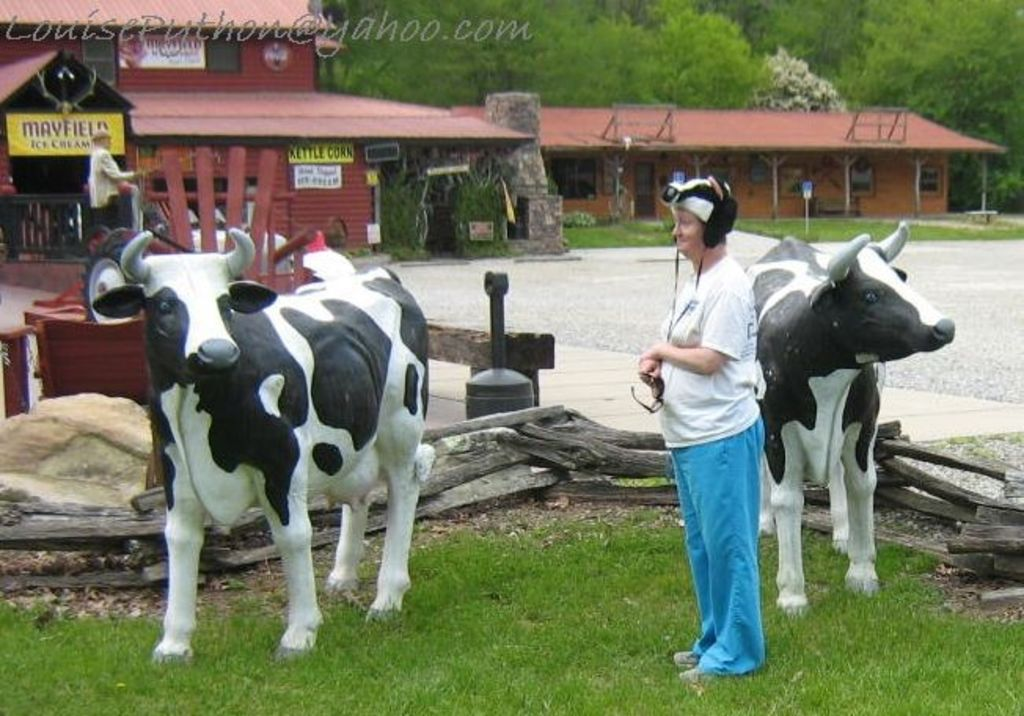Person: (636, 173, 766, 686), (87, 132, 137, 227)
